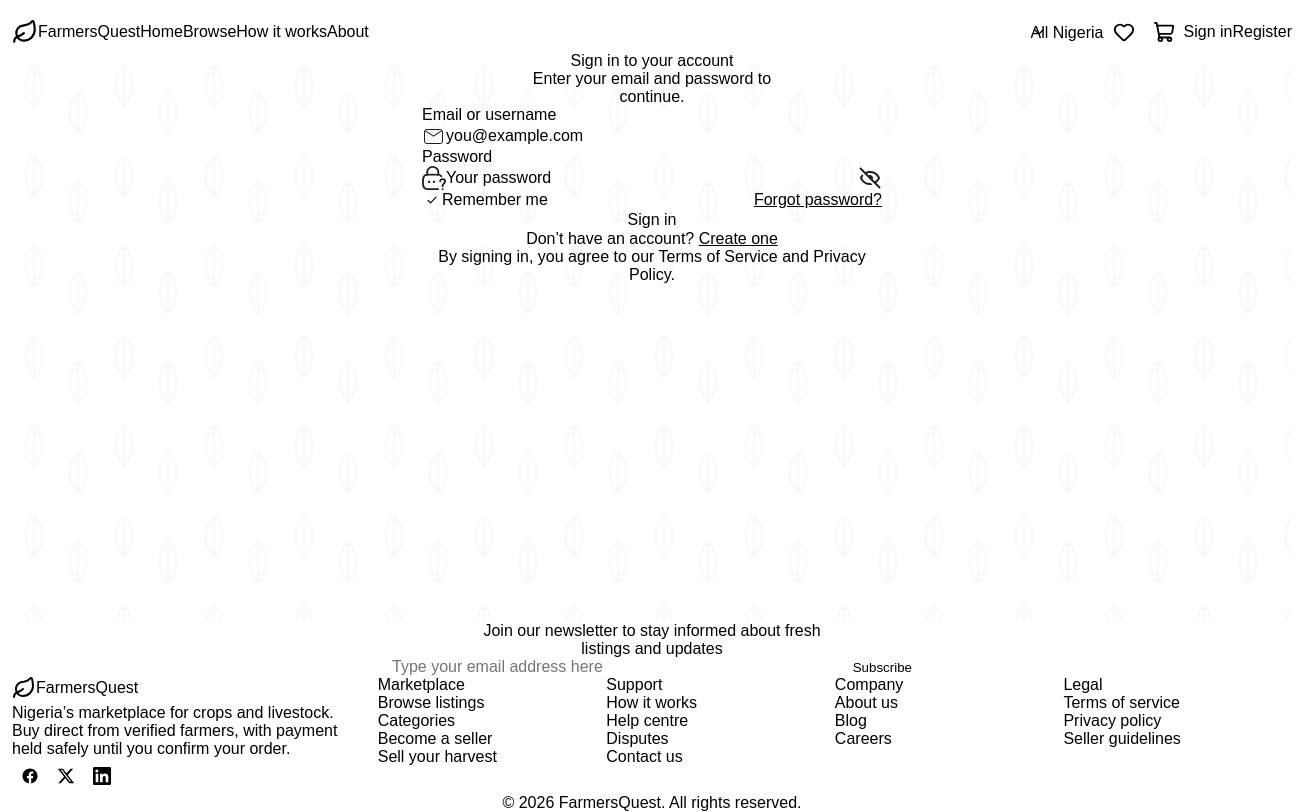
SignInScreen › signs in and routes to the role home
In the field labelled "Email or username": (664, 136) top-left (446, 127), bottom-right (882, 145), type "ada"
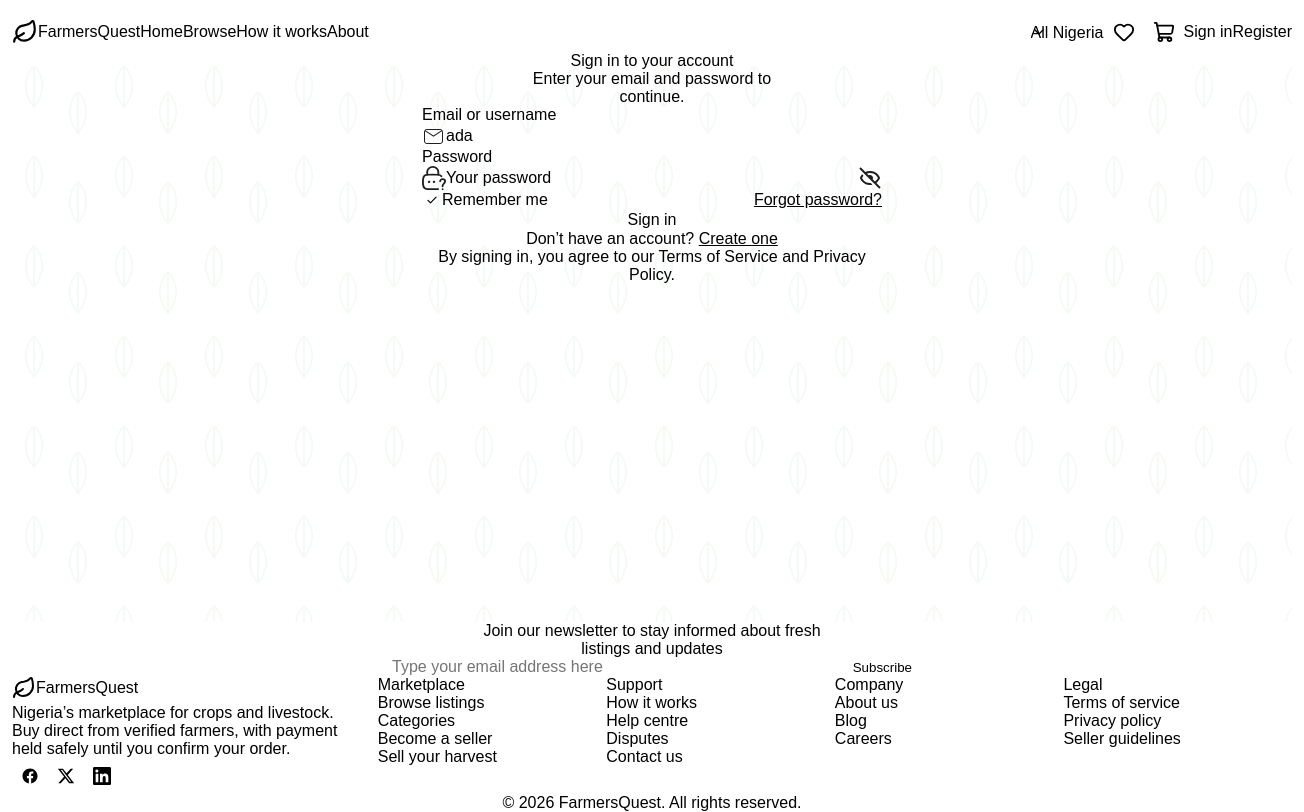
In the password field labelled "Password": (652, 178) top-left (446, 169), bottom-right (858, 187), type "password123"
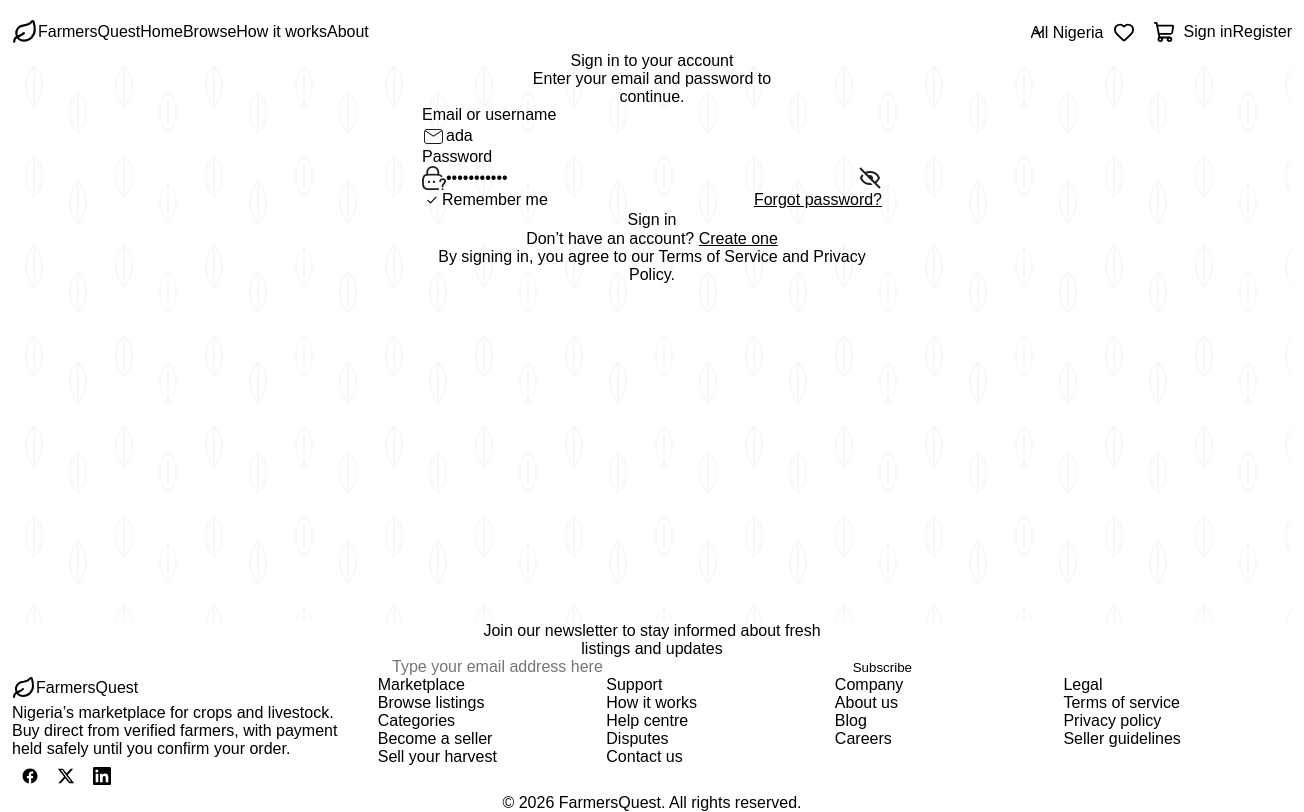
Click the button "Sign in": (652, 220) top-left (422, 210), bottom-right (882, 230)
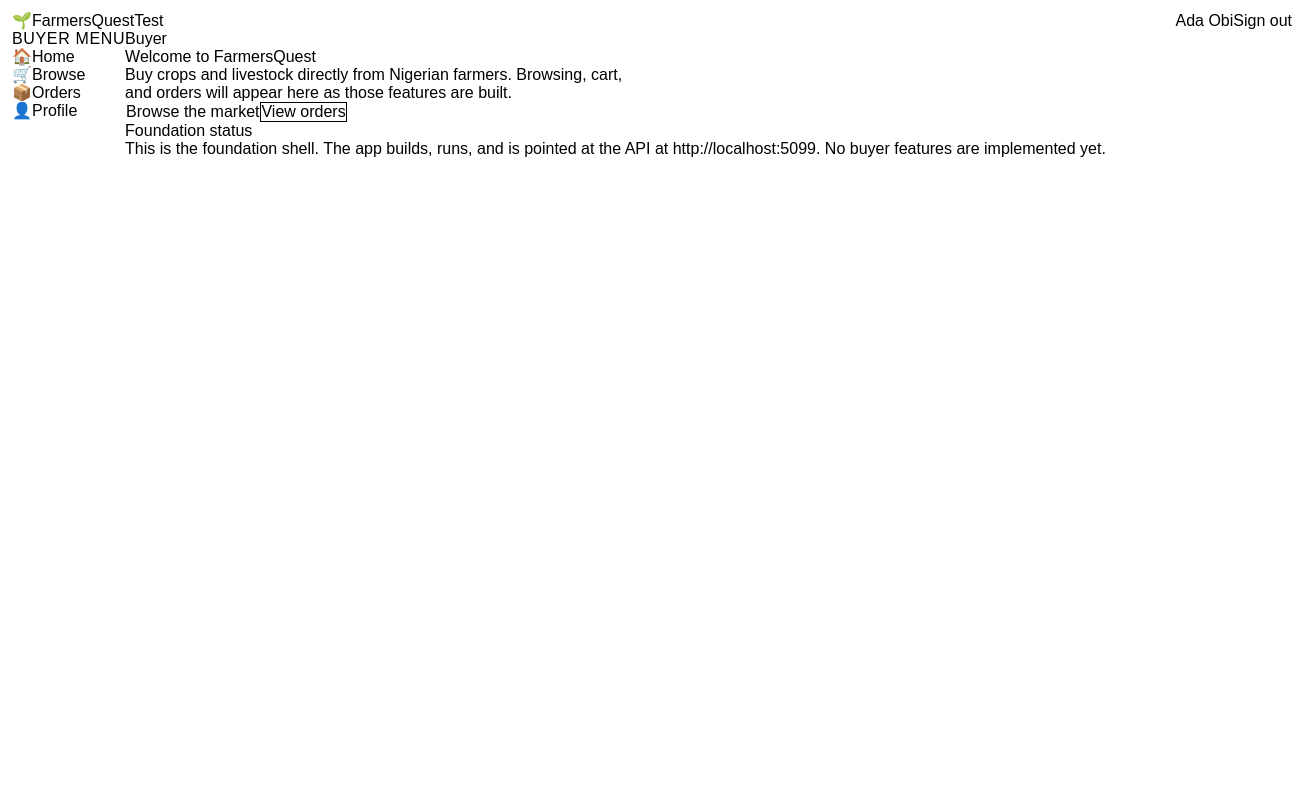
Expected: the heading "Welcome to FarmersQuest" is shown, top-left (125, 48), bottom-right (316, 66)
